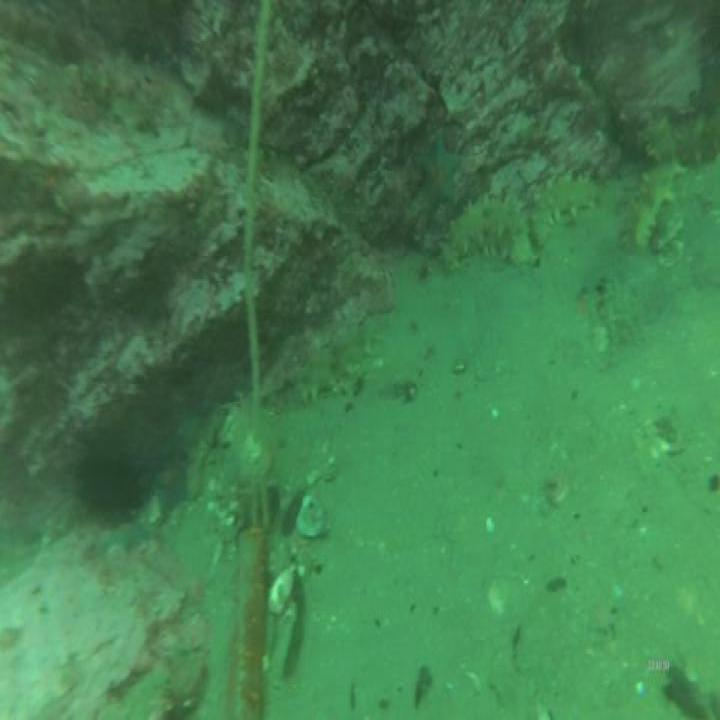echinus: (73, 446, 147, 530)
holothurian: (288, 322, 382, 405), (442, 185, 531, 270), (634, 112, 688, 249), (527, 169, 604, 247)
starfish: (149, 446, 197, 528), (100, 517, 151, 560)
